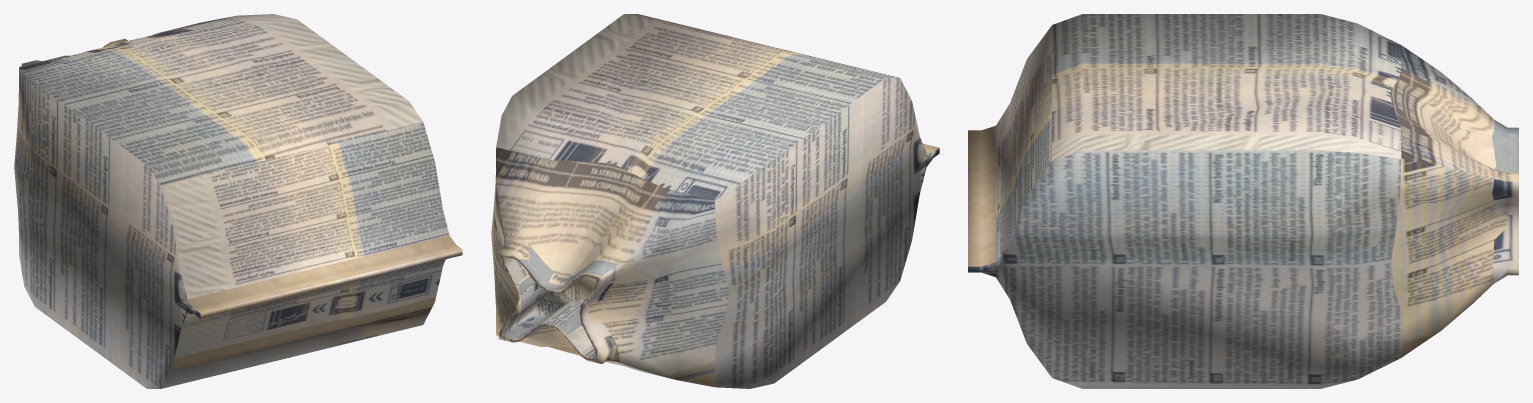
File: popcorn_done.glb
The picture shows the model from 3 angles, left to right: view 1: azimuth 30°, elevation 25°; view 2: azimuth 150°, elevation 25°; view 3: azimuth 270°, elevation 25°; orthographic projection. The views are drawn at different scales.
Parts seen in each view (by area): view 1: Cube; view 2: Cube; view 3: Cube.
Part boxes in pixels (box(x1,y1,x2,y2)): Cube: box(14, 14, 462, 388); Cube: box(491, 14, 939, 388); Cube: box(968, 14, 1518, 388).
Bounding box in the file's own units: 1.47 × 1.2 × 2.51.
1 material, 1 textured.
